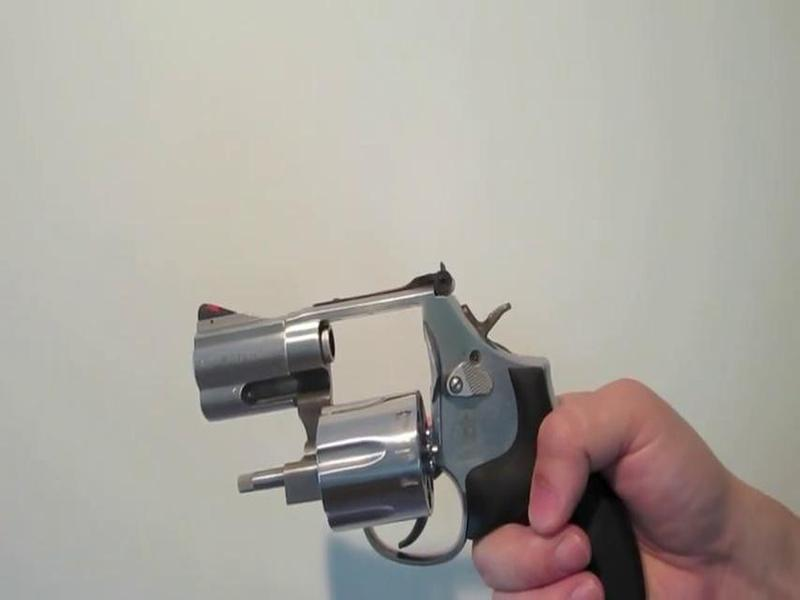Revolver: (160, 260, 673, 600)
